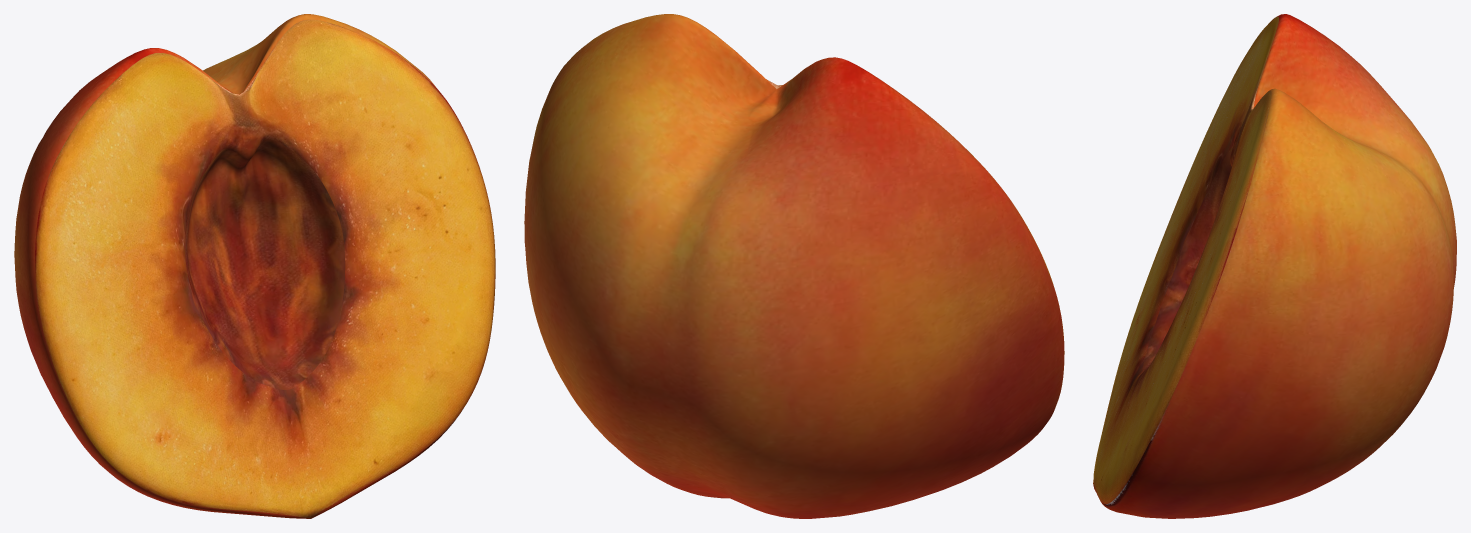
The model's file is peach-half.glb.
3 views of the same model, side by side, from view 1: azimuth 30°, elevation 25°; view 2: azimuth 150°, elevation 25°; view 3: azimuth 270°, elevation 25° (orthographic). The views are drawn at different scales.
Parts seen in each view (by area): view 1: peach half _Peach inside_0, peach half _Peach skin 2_0; view 2: peach half _Peach skin 2_0; view 3: peach half _Peach skin 2_0, peach half _Peach inside_0.
Boxes of the visible parts, <box> form: peach half _Peach inside_0: <box>35,19,495,518</box>; peach half _Peach skin 2_0: <box>14,14,461,518</box>; peach half _Peach skin 2_0: <box>524,14,1064,518</box>; peach half _Peach skin 2_0: <box>1093,14,1456,518</box>; peach half _Peach inside_0: <box>1093,16,1278,504</box>.
Size of the model in its own units: 2.64 by 2.4 by 1.82.
2 materials, 2 textured.
